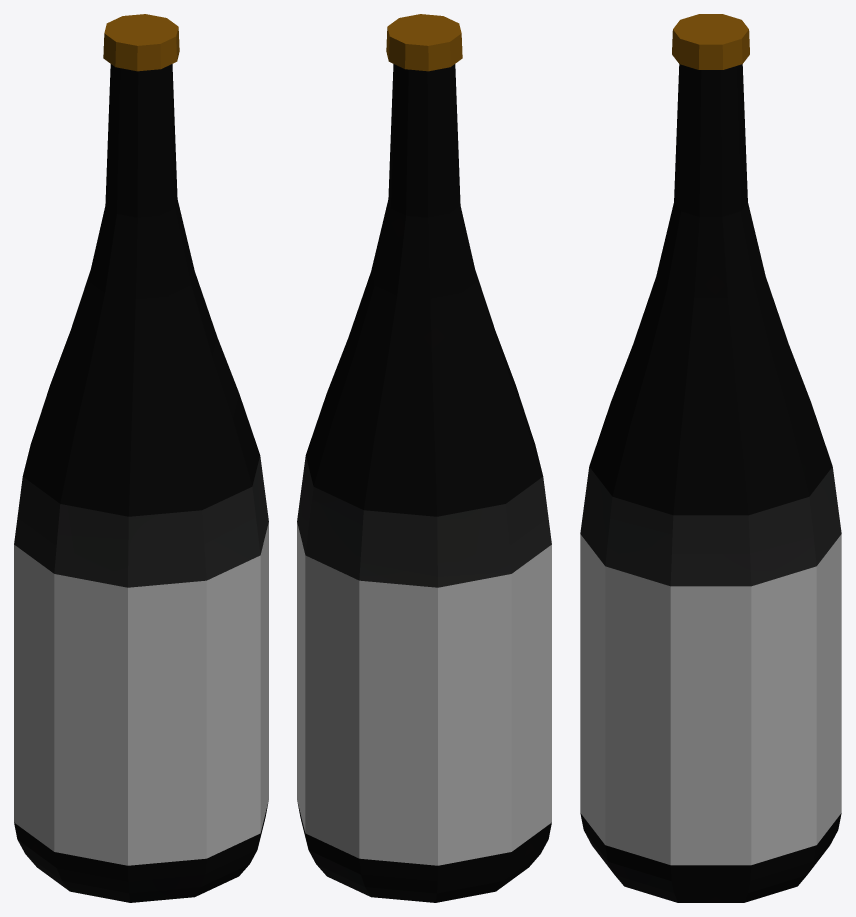
File: Wine_01.fbx
3 views of the same model, side by side, from view 1: azimuth 30°, elevation 25°; view 2: azimuth 150°, elevation 25°; view 3: azimuth 270°, elevation 25° (orthographic).
Parts seen in each view (by area): view 1: Wine_01; view 2: Wine_01; view 3: Wine_01.
Boxes of the visible parts, box(x1,y1,x2,y2) form: Wine_01: box(14, 14, 268, 902); Wine_01: box(297, 14, 551, 902); Wine_01: box(580, 14, 841, 902).
Size of the model in its own units: 7.43 by 27.41 by 7.82.
